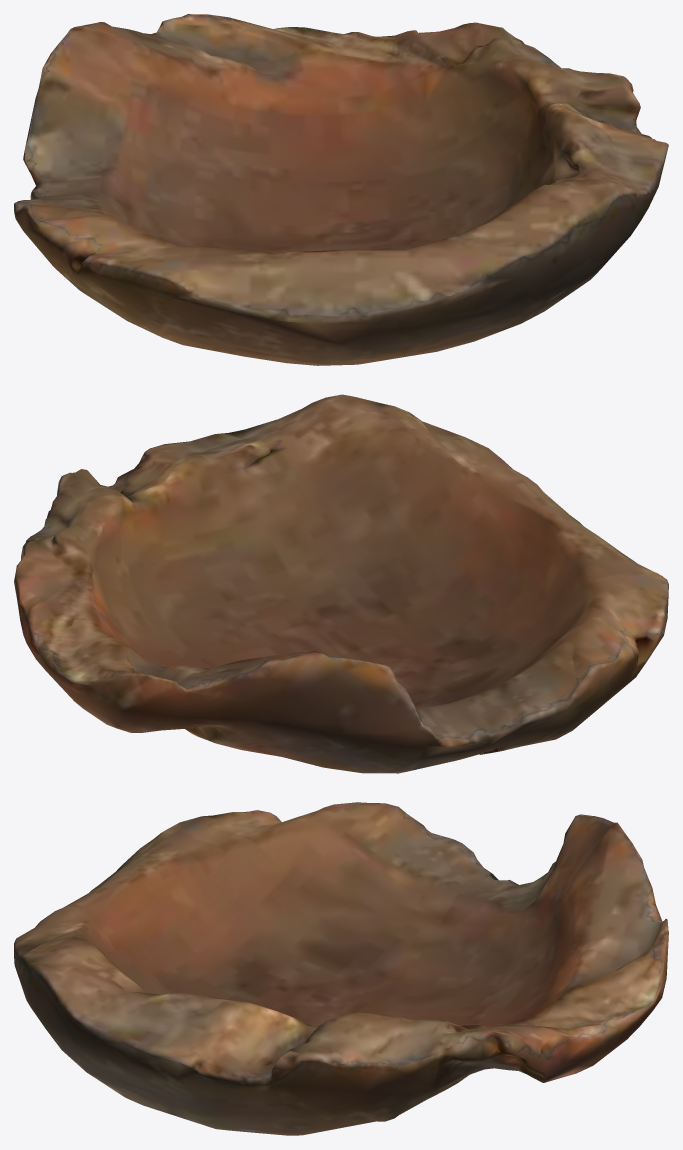
File: bowl.glb
3 renders of one model, top to bottom at view 1: azimuth 30°, elevation 25°; view 2: azimuth 150°, elevation 25°; view 3: azimuth 270°, elevation 25°, orthographic. The views are drawn at different scales.
Visible parts, largest first — view 1: wooden_bowl_01; view 2: wooden_bowl_01; view 3: wooden_bowl_01.
Boxes of the visible parts, x1,y1,x2,y2 form: wooden_bowl_01: (14, 14, 668, 365); wooden_bowl_01: (14, 394, 668, 773); wooden_bowl_01: (14, 802, 668, 1135).
Bounding box in the file's own units: 0.3127 × 0.0935 × 0.3088.
Materials: 1 (1 with a texture image).
